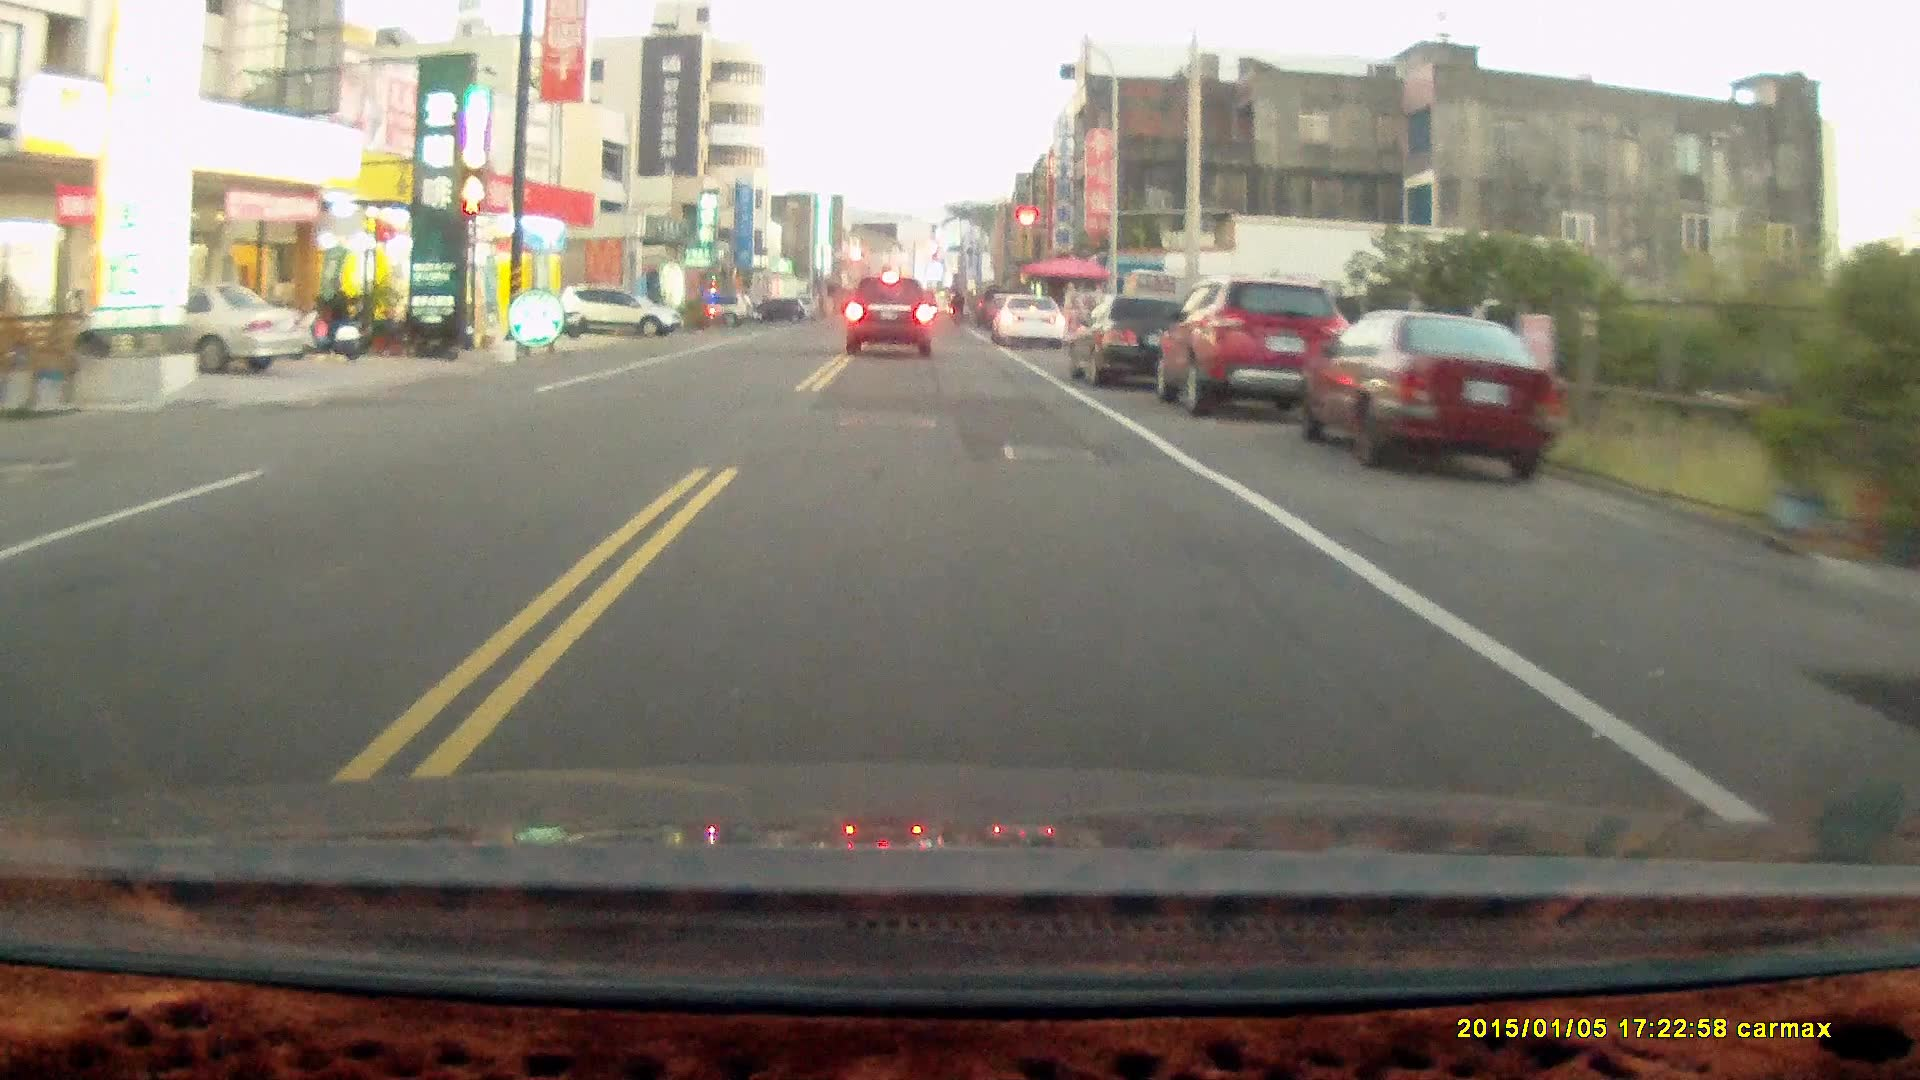vehicle: (1298, 307, 1567, 485), (1162, 276, 1364, 417), (84, 284, 303, 378), (1069, 293, 1205, 386), (847, 276, 939, 359), (560, 286, 684, 342), (994, 295, 1068, 352)
